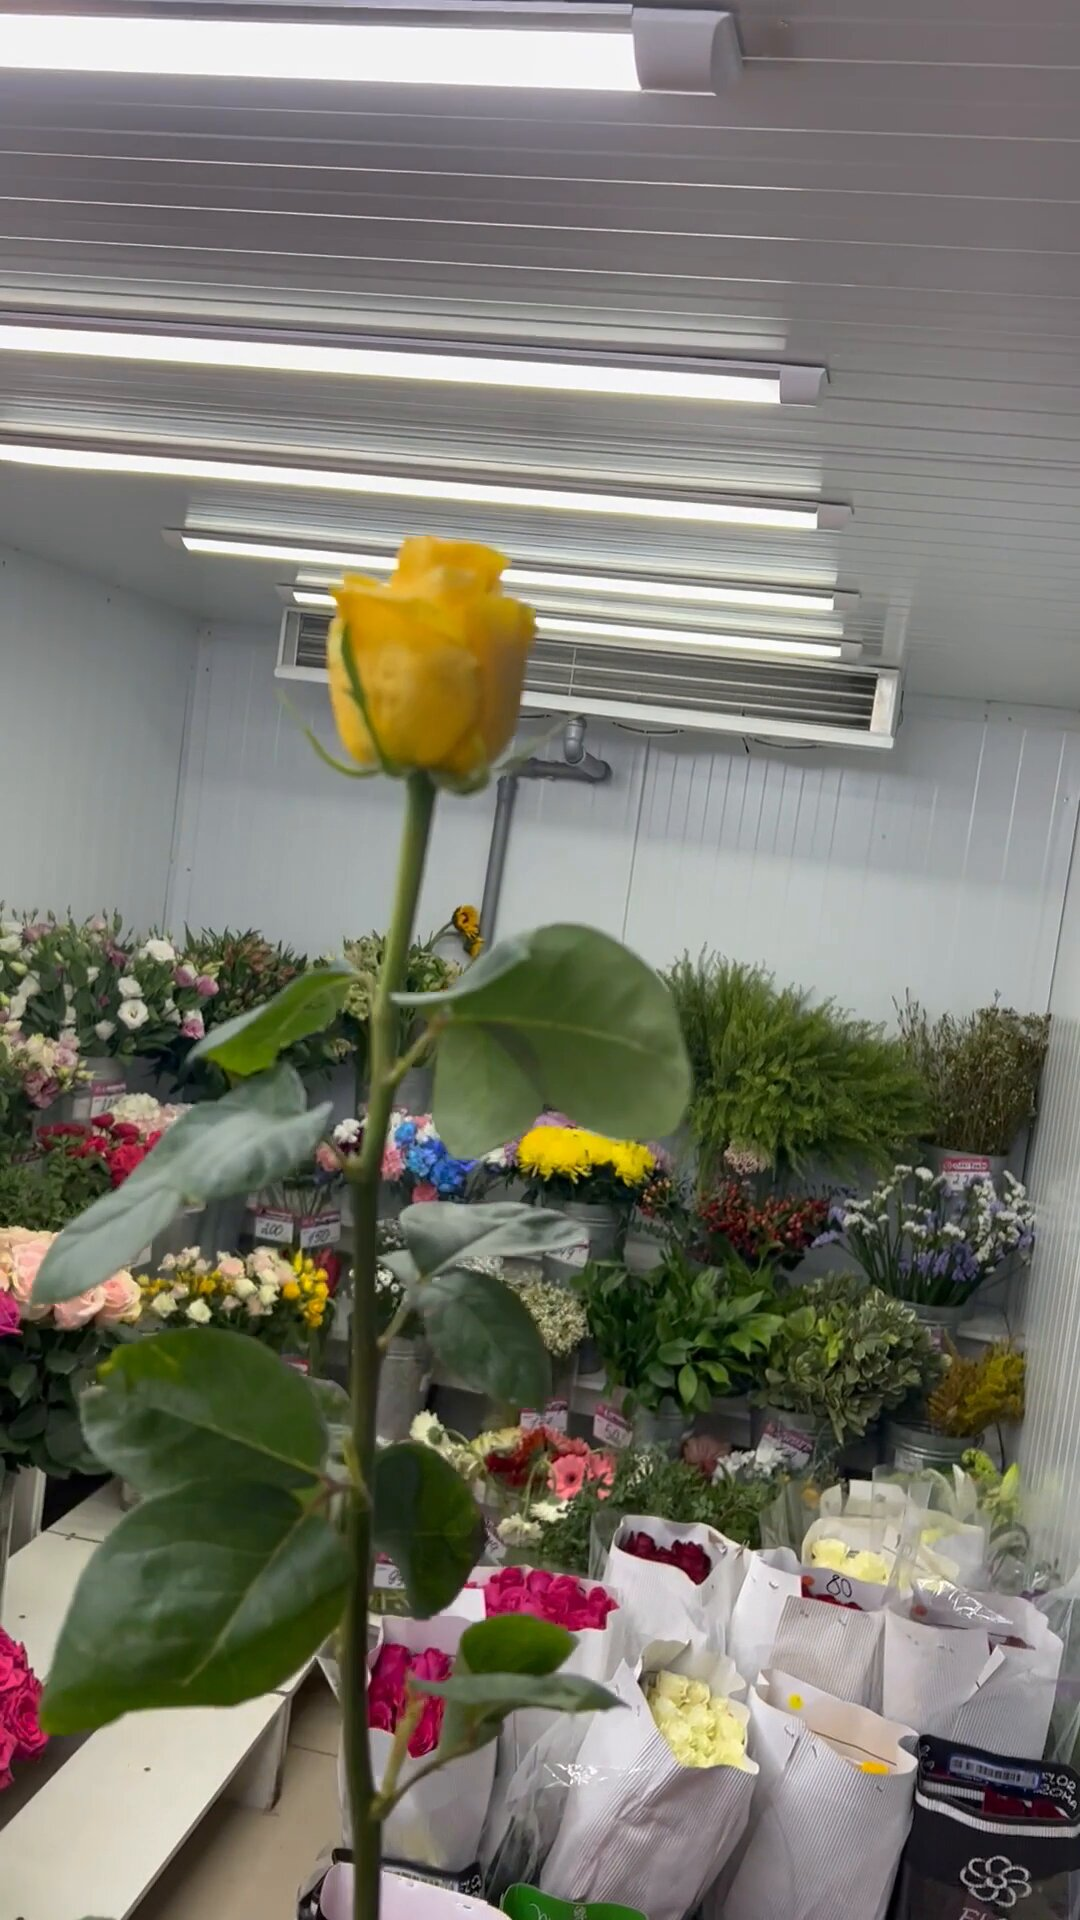rose: (45, 527, 669, 1905)
